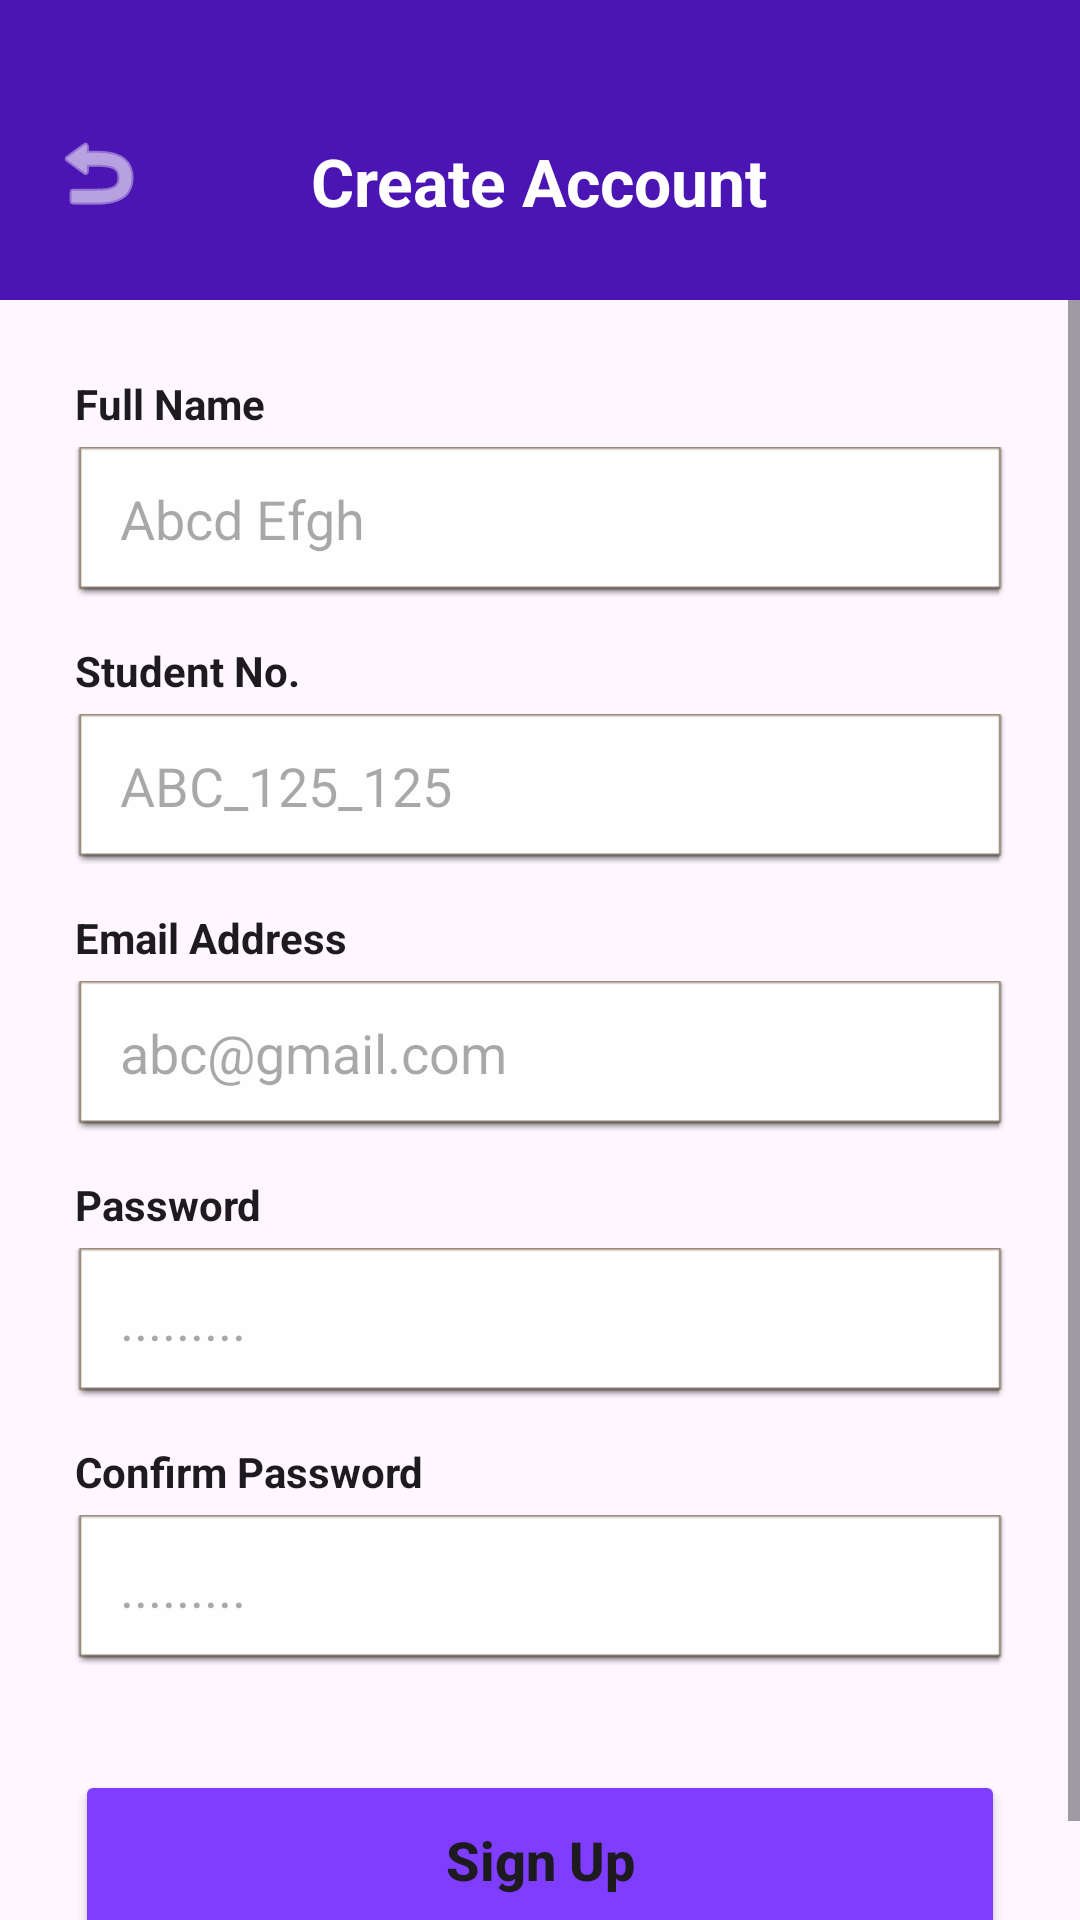

Icons on this 1080px x 1920px Android screen, each with the point to tap as (x,y):
Back: (99,173)
